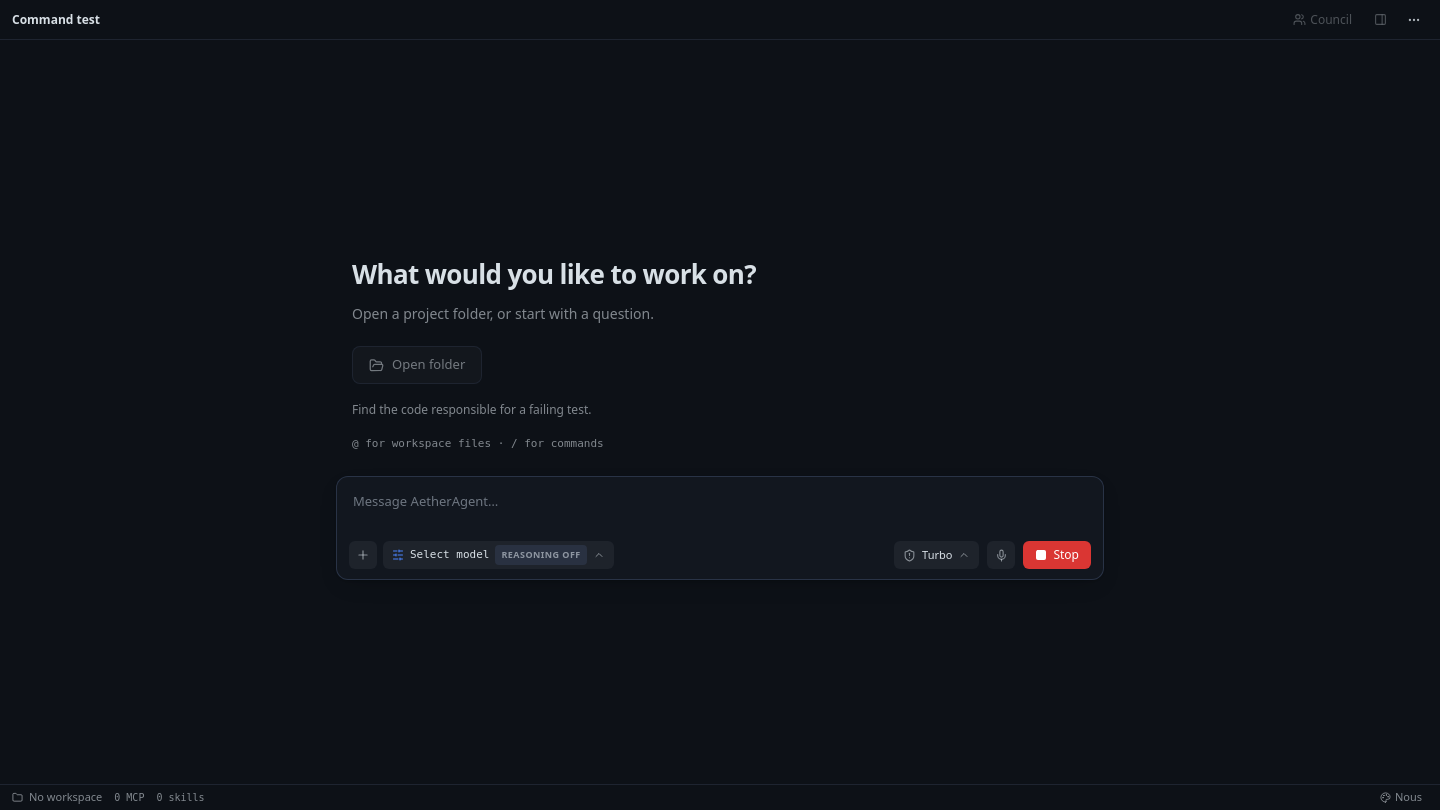
it: ChatCanvas prompt queueing › allows removing a queued prompt
Type "Cancel this instruction" into the text box at (720, 508), box [337,477,1103,539]
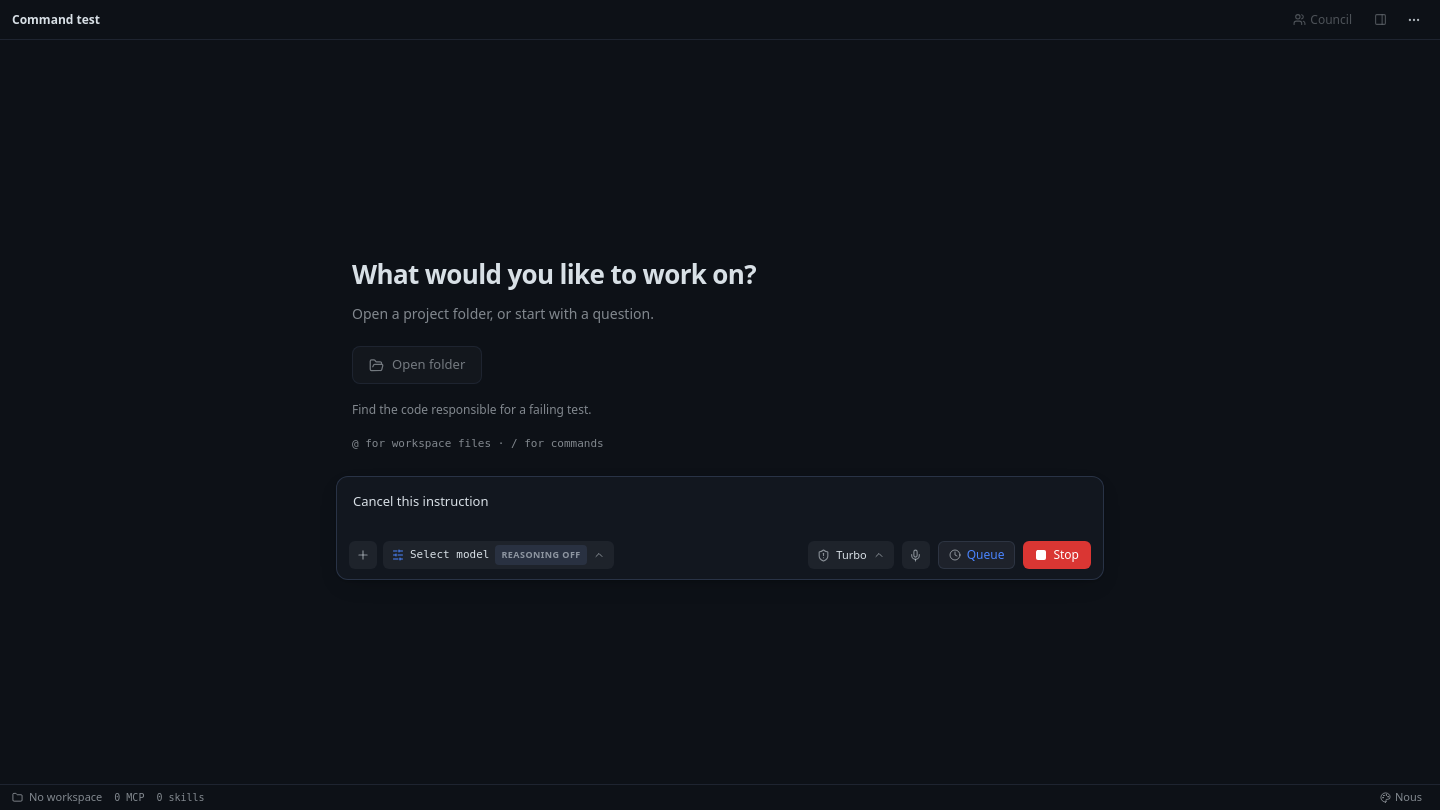
Press Enter in the text box, box [337,477,1103,539]
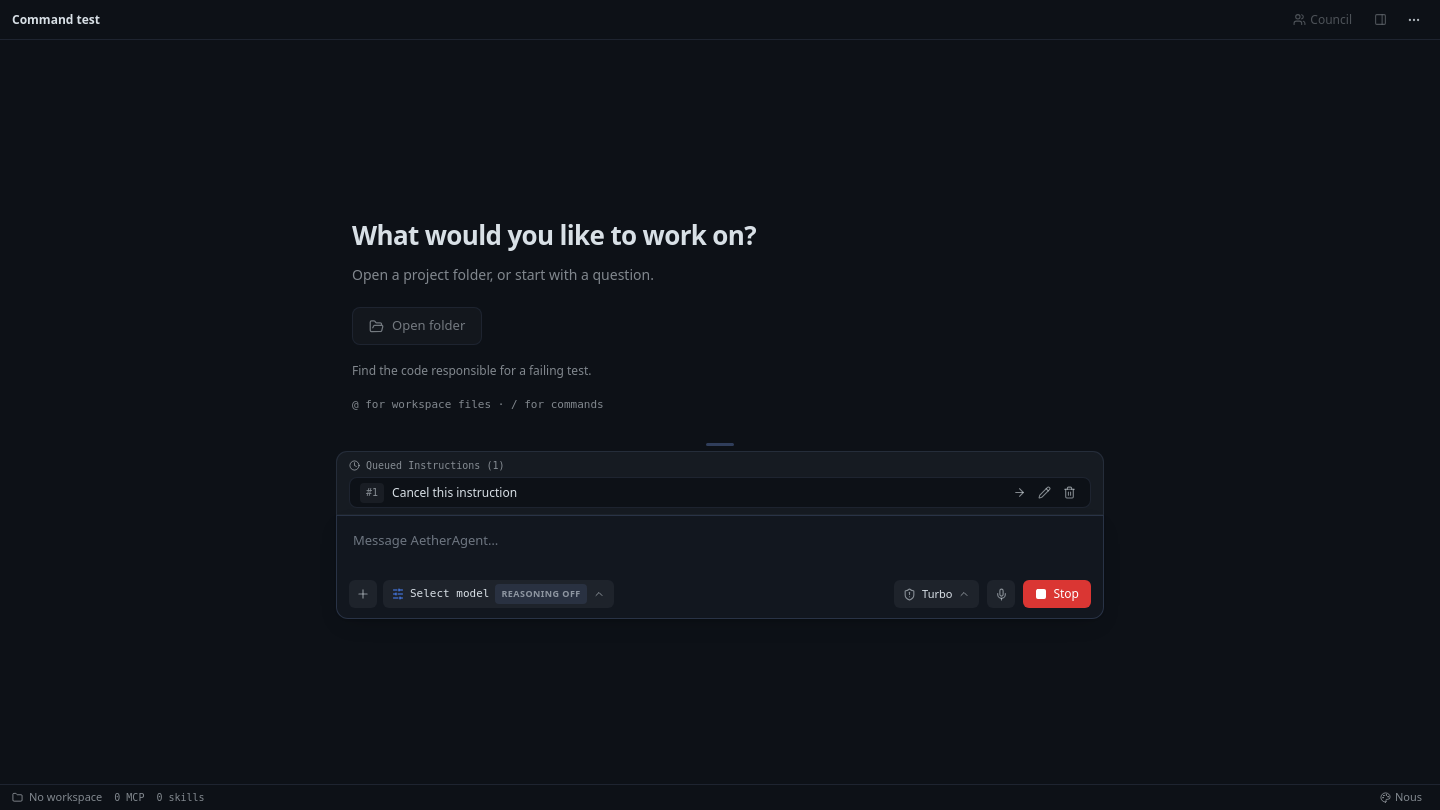
Now the text "Cancel this instruction" is shown, box [392,485,517,501]
Click the button named "Remove queued prompt" at (1070, 493), box [1059,482,1080,503]
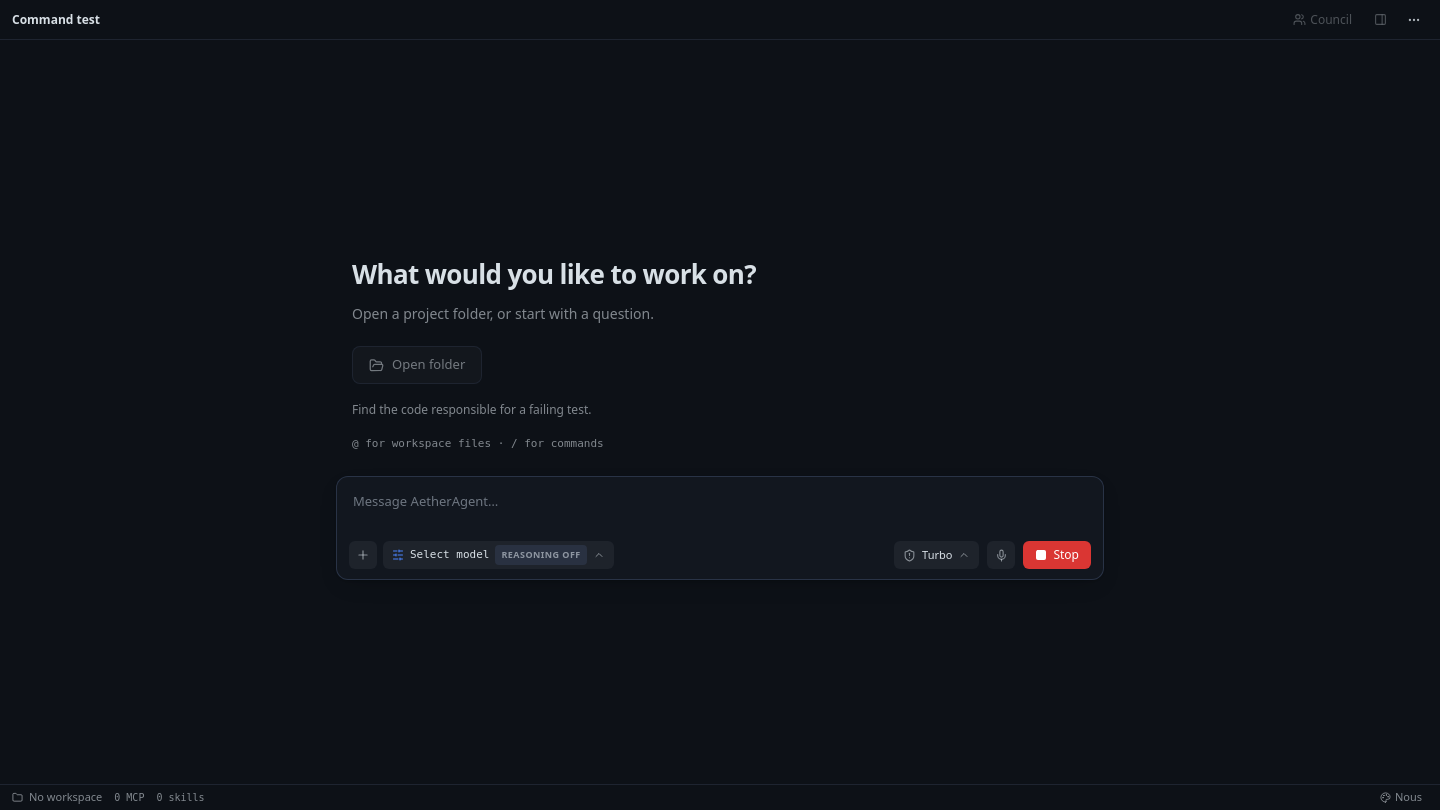
Now the element with test id "queued-prompts-banner" is gone
